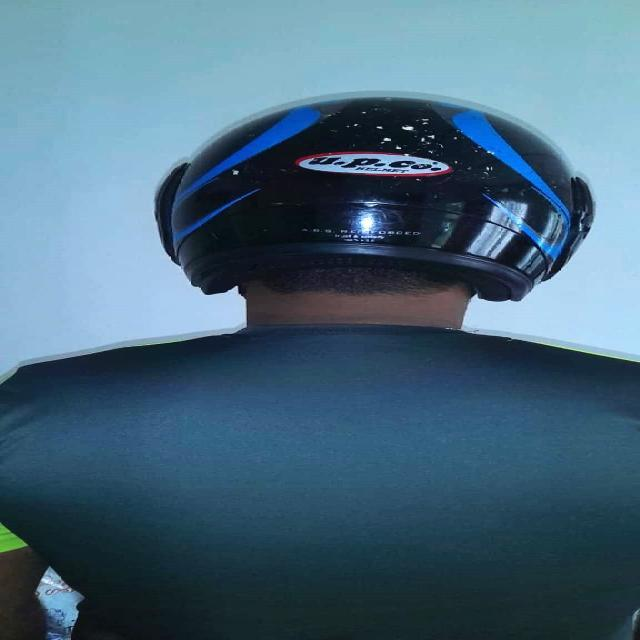helmet: (105, 60, 614, 407)
